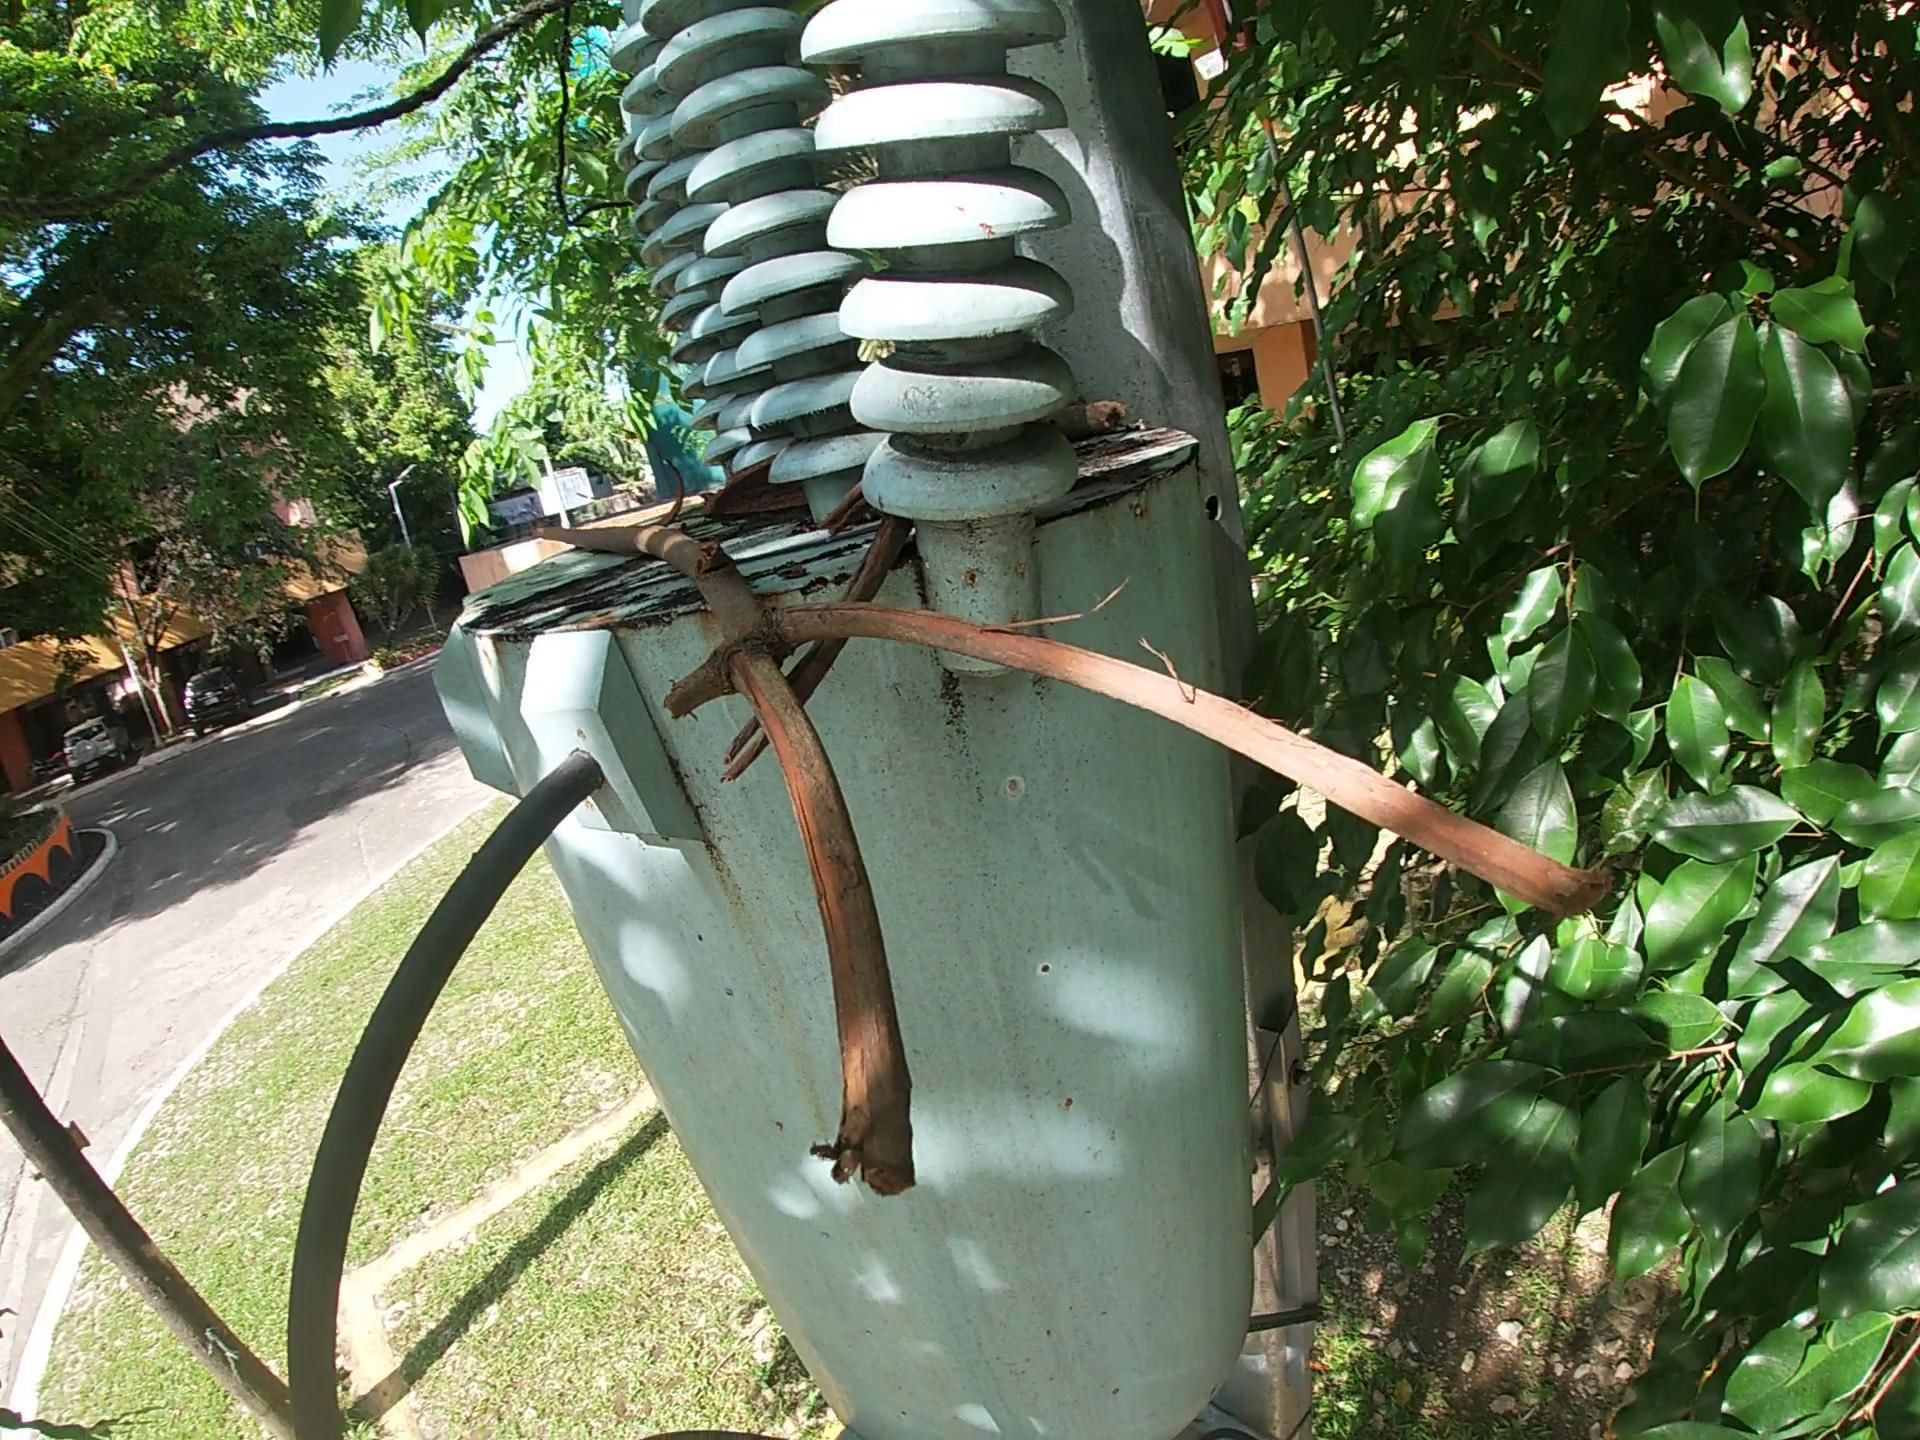mahogany fruit: (698, 451, 812, 525), (655, 454, 688, 529)
tree branch: (525, 513, 1624, 1213), (705, 473, 921, 796), (1054, 396, 1132, 442)
